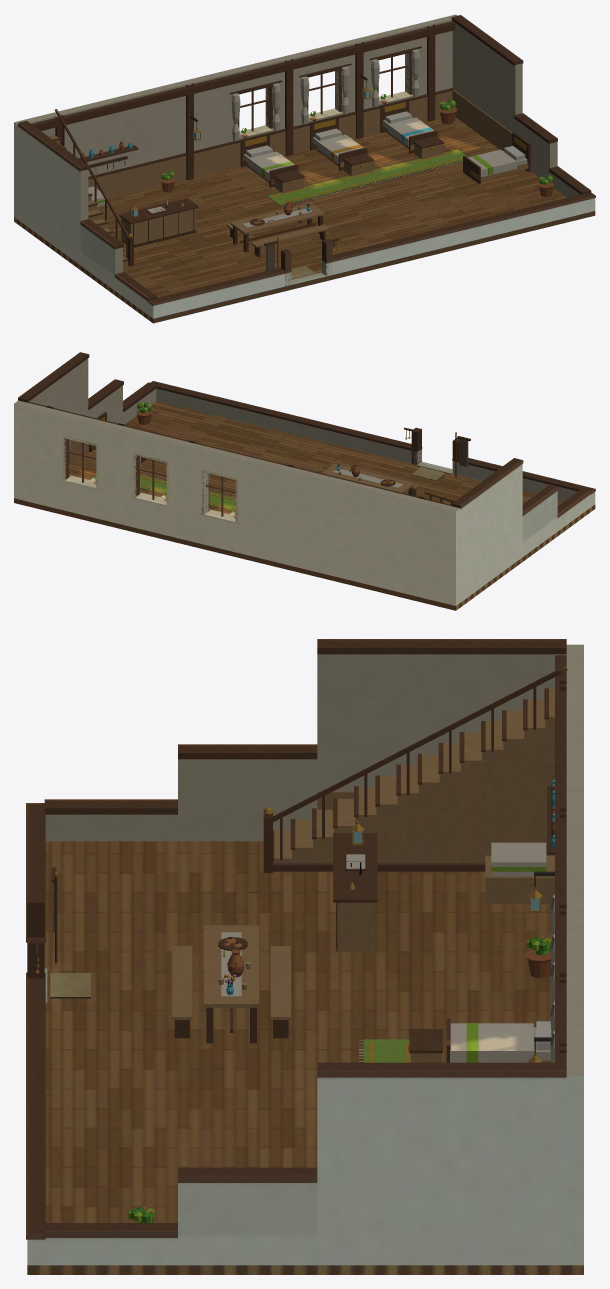
File: hospederia.glb
3 views of the same model, one above another, from view 1: azimuth 30°, elevation 25°; view 2: azimuth 150°, elevation 25°; view 3: azimuth 270°, elevation 25° (orthographic). The views are drawn at different scales.
Parts seen in each view (by area): view 1: hospederia; view 2: hospederia; view 3: hospederia.
Part boxes in pixels (left/top/right/bottom): hospederia: left=14, top=14, right=595, bottom=323; hospederia: left=14, top=352, right=595, bottom=610; hospederia: left=26, top=639, right=583, bottom=1274.
Size of the model in its own units: 17.64 by 4.06 by 9.62.
1 material, 1 textured.
